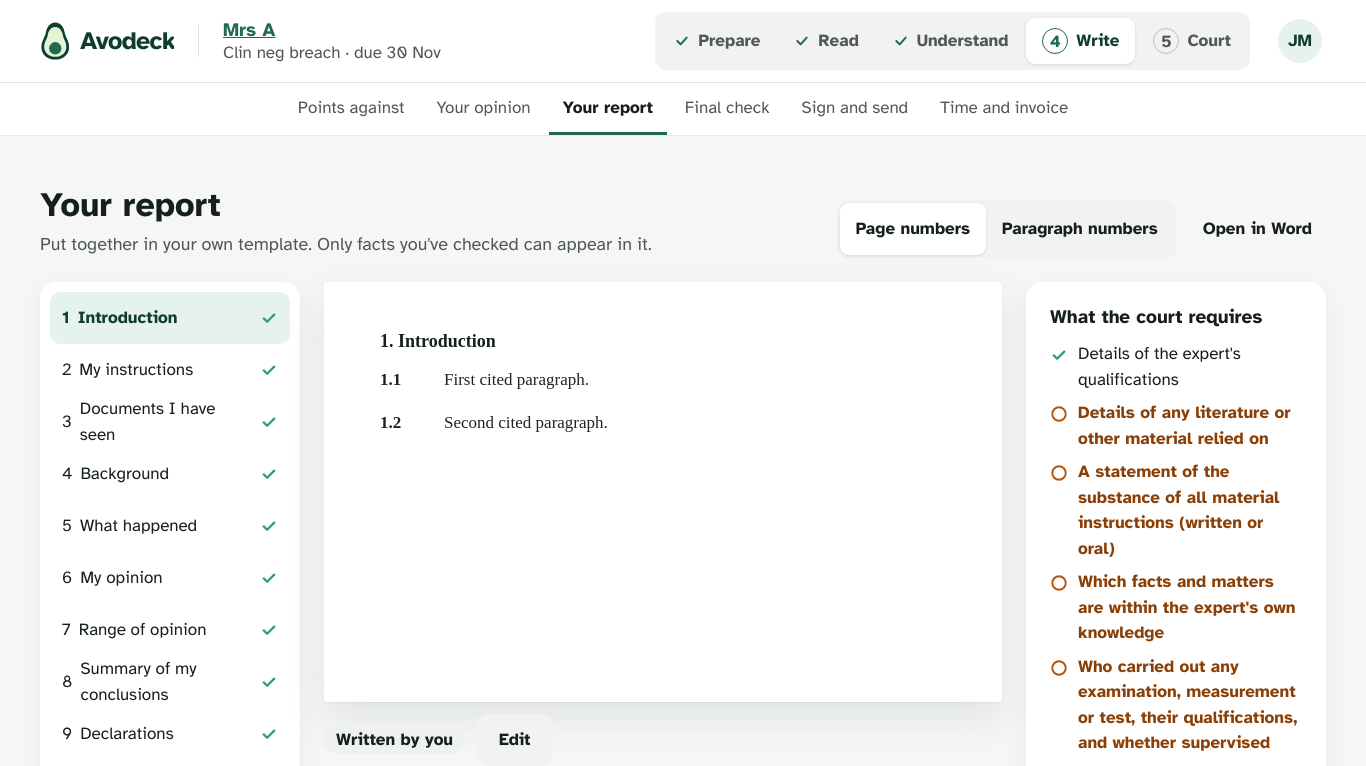
Test case: choosing another section puts its words on the paper page
Click the button "My instructions" at (166, 370), box [79, 344, 252, 396]
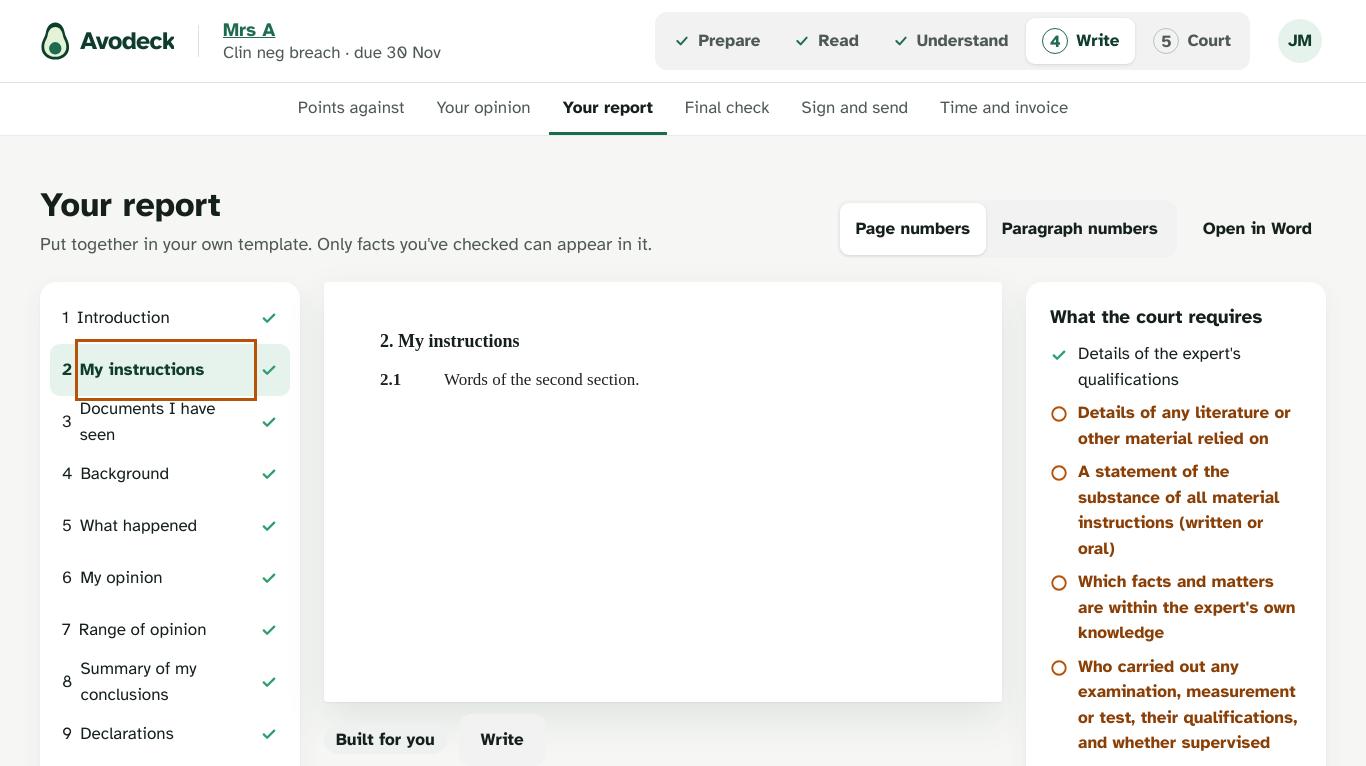
Expected: the text "Words of the second section." is shown, [444, 366, 640, 395]
Expected: the text "First cited paragraph." is gone
